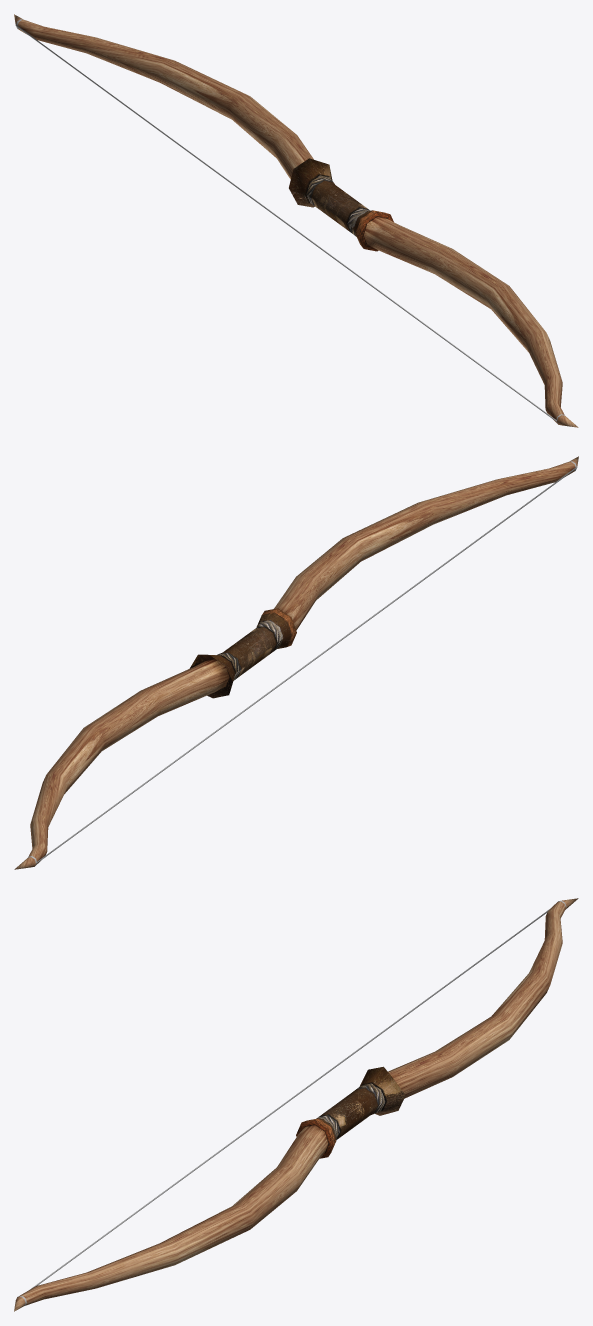
The model's file is Pickup_Bow.fbx.
3 renders of one model, top to bottom at view 1: azimuth 30°, elevation 25°; view 2: azimuth 150°, elevation 25°; view 3: azimuth 330°, elevation 25°, orthographic.
Parts seen in each view (by area): view 1: pasted__bow_1; view 2: pasted__bow_1; view 3: pasted__bow_1.
Part boxes in pixels (<box>): pasted__bow_1: <box>14,14,578,427</box>; pasted__bow_1: <box>14,456,578,869</box>; pasted__bow_1: <box>14,898,578,1311</box>.
Bounding box in the file's own units: 2.98 × 1.36 × 29.9.
